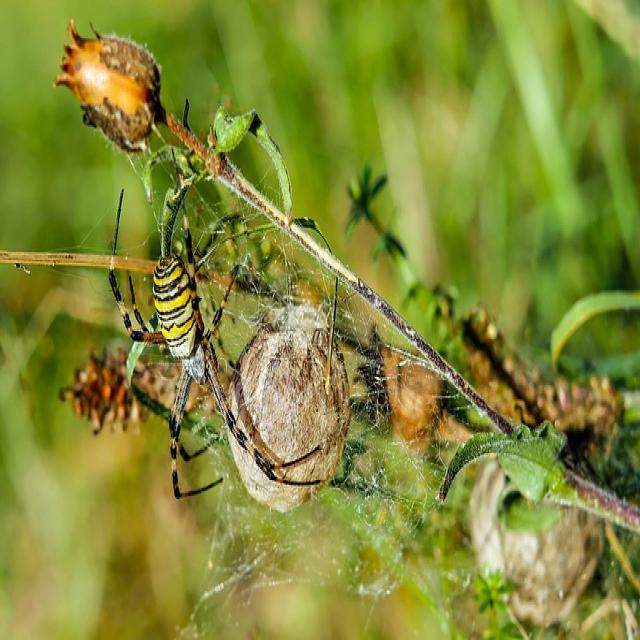spyder: (109, 174, 308, 497)
